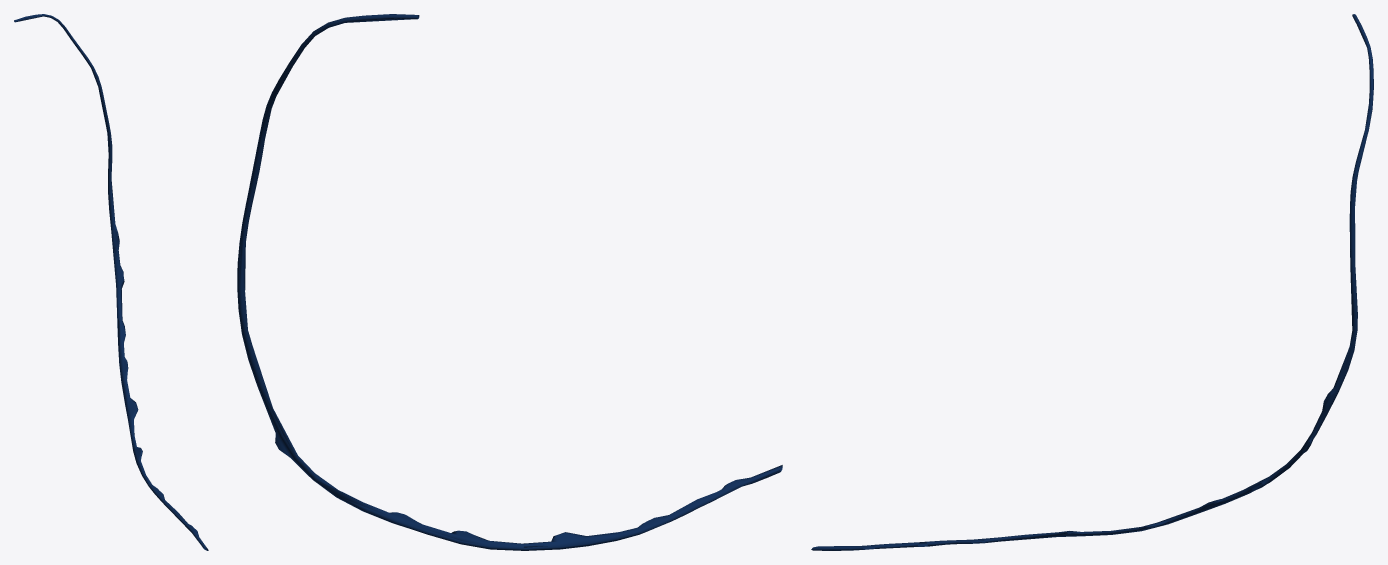
The model's file is L vena musculophrenica.fbx.
3 views of the same model, side by side, from view 1: azimuth 30°, elevation 25°; view 2: azimuth 150°, elevation 25°; view 3: azimuth 270°, elevation 25° (orthographic). The views are drawn at different scales.
Visible parts, largest first — view 1: L vena musculophrenica, L vena musculophrenica low; view 2: L vena musculophrenica, L vena musculophrenica low; view 3: L vena musculophrenica, L vena musculophrenica low.
Part boxes in pixels (box(x1,y1,x2,y2)): L vena musculophrenica: box(14, 14, 206, 550); L vena musculophrenica low: box(14, 15, 208, 550); L vena musculophrenica: box(237, 14, 782, 550); L vena musculophrenica low: box(238, 15, 782, 548); L vena musculophrenica: box(812, 14, 1373, 550); L vena musculophrenica low: box(811, 23, 1372, 549).
Bounding box in the file's own units: 11.05 × 40.54 × 38.43.
